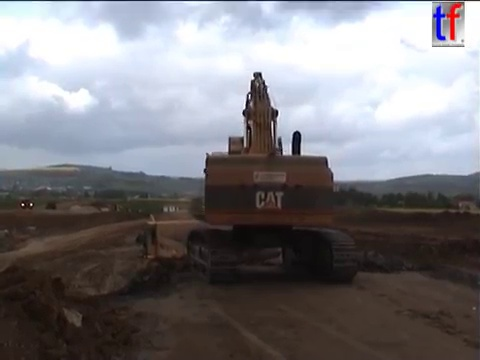excavator: (182, 68, 364, 286)
truck: (133, 211, 286, 288), (18, 195, 37, 213), (43, 198, 58, 212)
